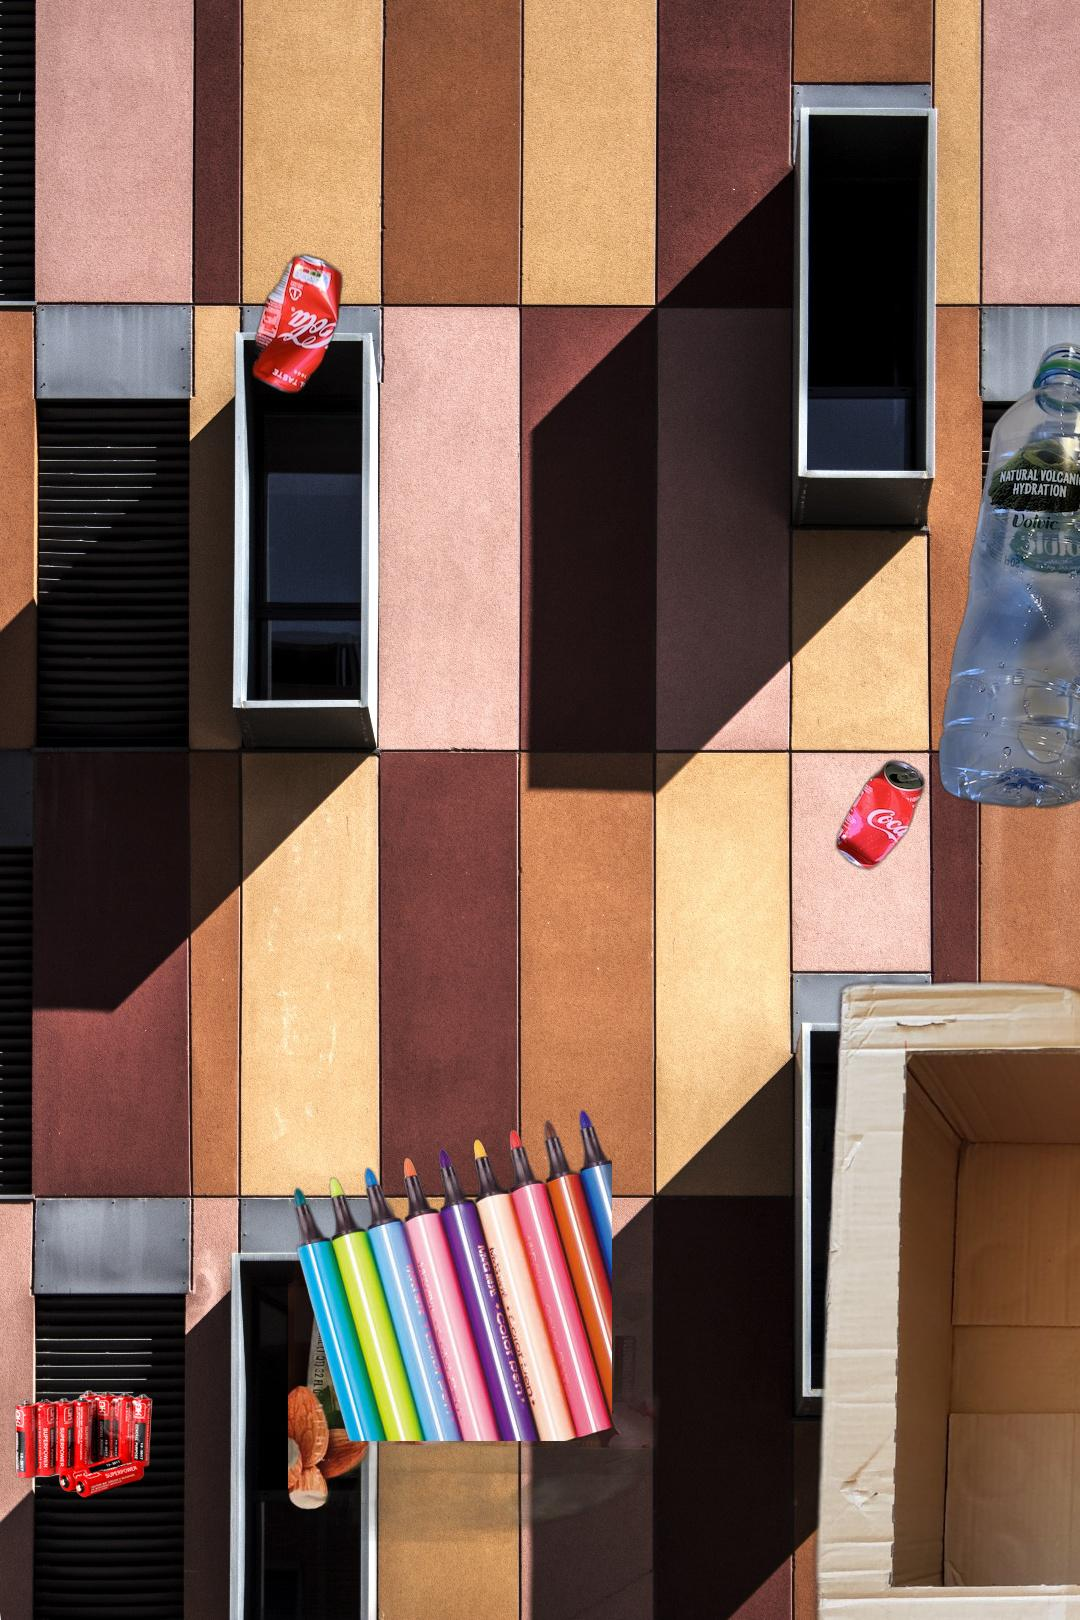battery: (12, 1387, 155, 1499)
metal-cans: (247, 248, 347, 400), (832, 755, 931, 875)
penholder: (293, 1107, 612, 1440)
plastic-bottles: (937, 339, 1080, 843)
trashbox-cardboard: (802, 955, 1080, 1620), (288, 1262, 797, 1620)
